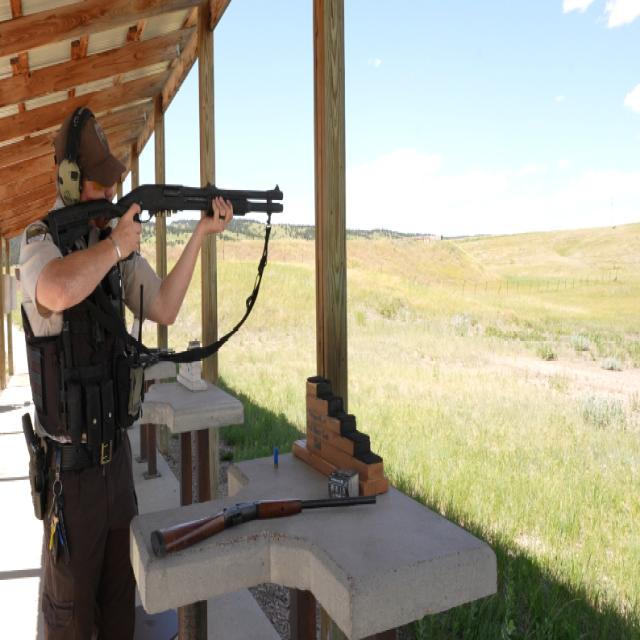HandGun: (22, 414, 48, 521)
ShotGun: (47, 184, 283, 249), (152, 496, 377, 556)
